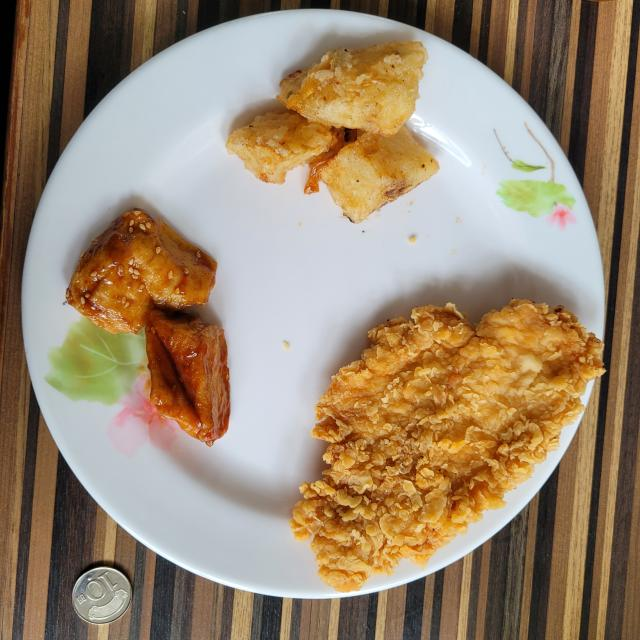coin: (72, 566, 132, 625)
creamy tofu: (66, 209, 230, 445)
fried chicken cutlet: (290, 300, 604, 592)
fried potato: (226, 41, 439, 222)
